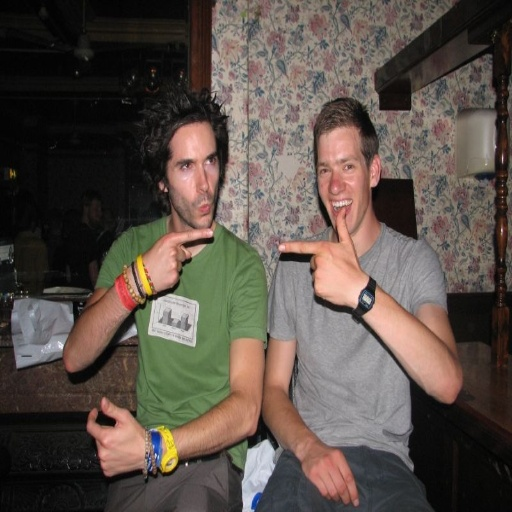hand: (277, 203, 364, 305), (79, 397, 150, 482), (138, 227, 214, 295), (298, 438, 360, 510)
